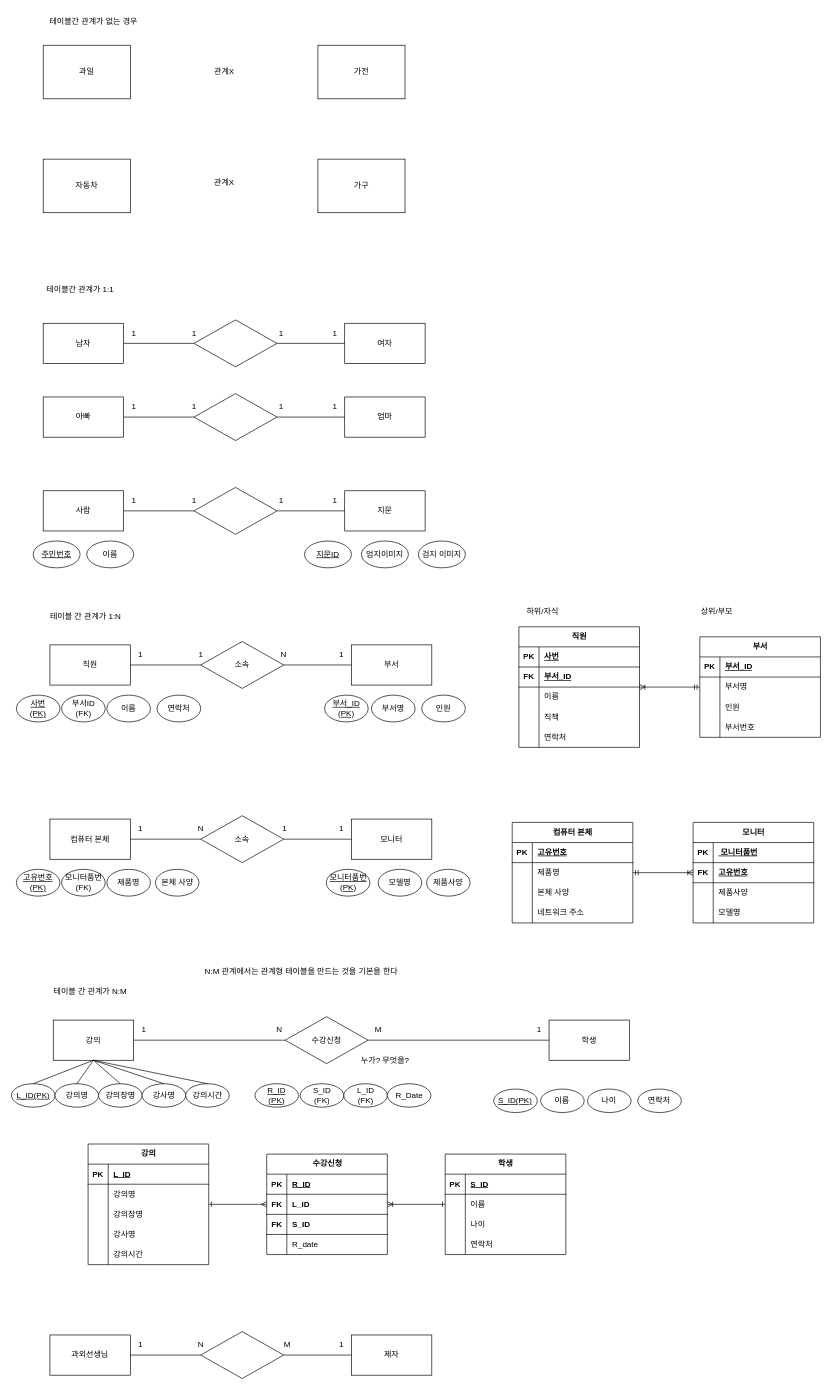
The diagram is 833 pixels wide and 1390 high, and some of its shapes have lost their labels. The shapes that lost their labels are listed below. From the top down, each one's box as (x1, y1, x2, y2) in pixels, then its label:
(193, 319, 277, 367): 결혼
(193, 393, 277, 441): 부부
(193, 487, 277, 534): 소유
(200, 1331, 284, 1379): 교육
